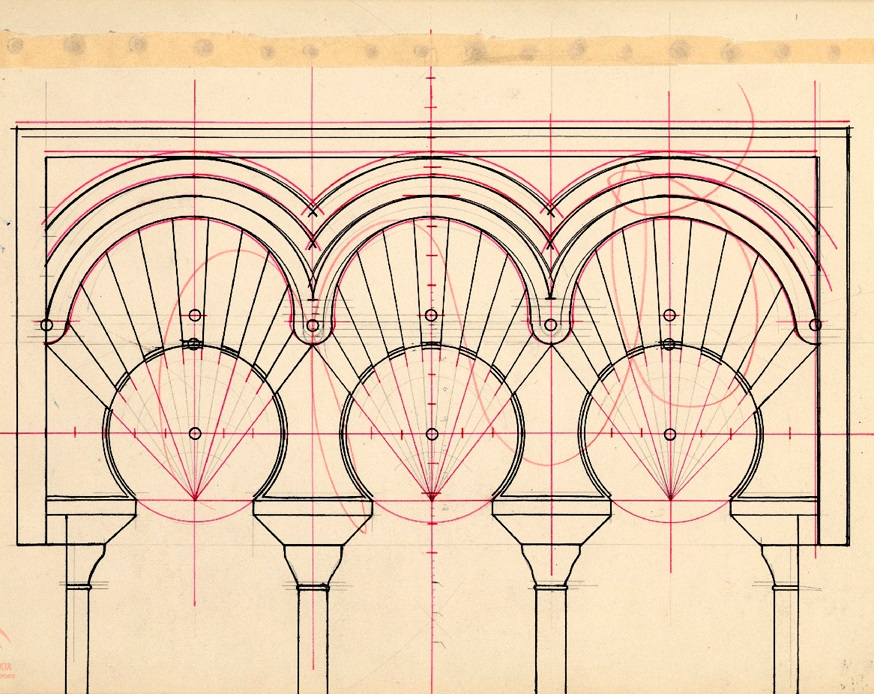arco-herradura: (566, 330, 779, 544), (325, 334, 542, 544), (89, 336, 301, 544)
